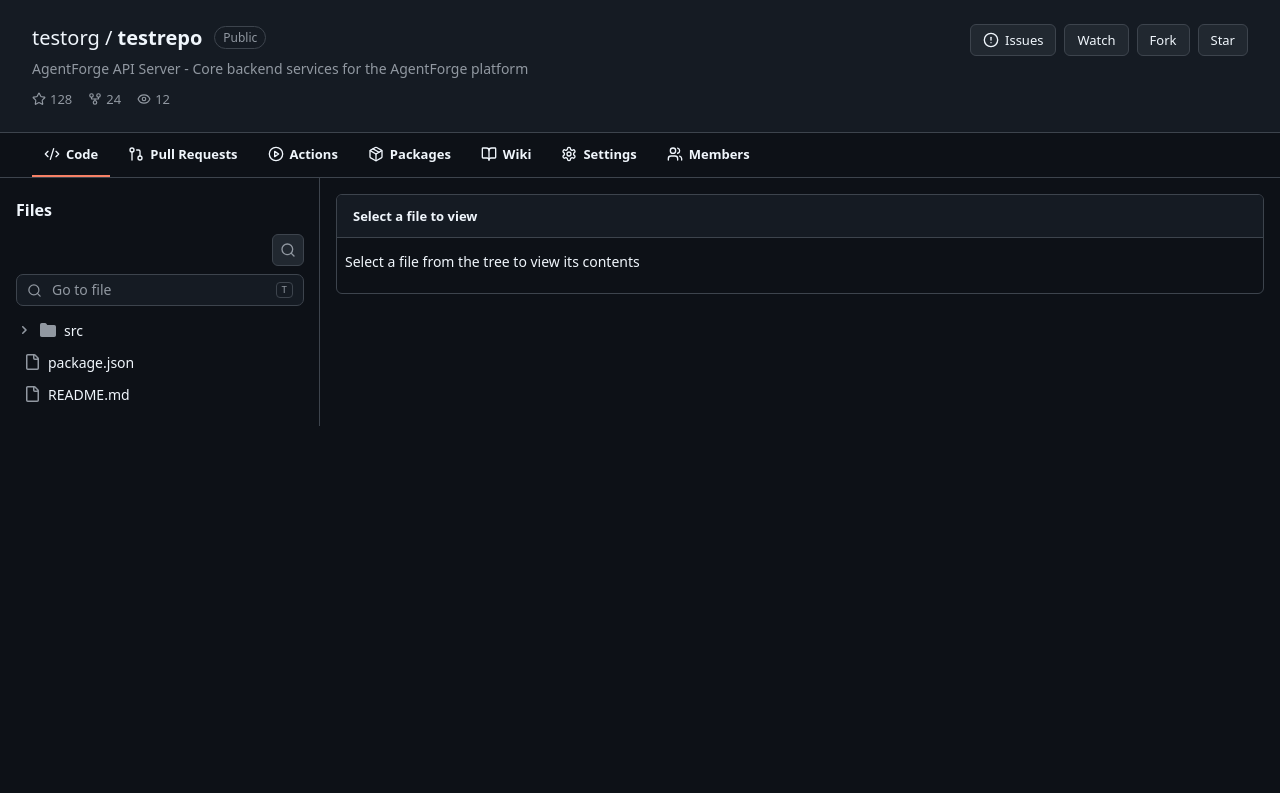
Test case: RepositoryDetailPage - Pull Requests Tab › filters PRs by merged status
The width and height of the screenshot is (1280, 793).
Click the tab "Pull Requests".
click(183, 155)  # box [116,133,250,177]
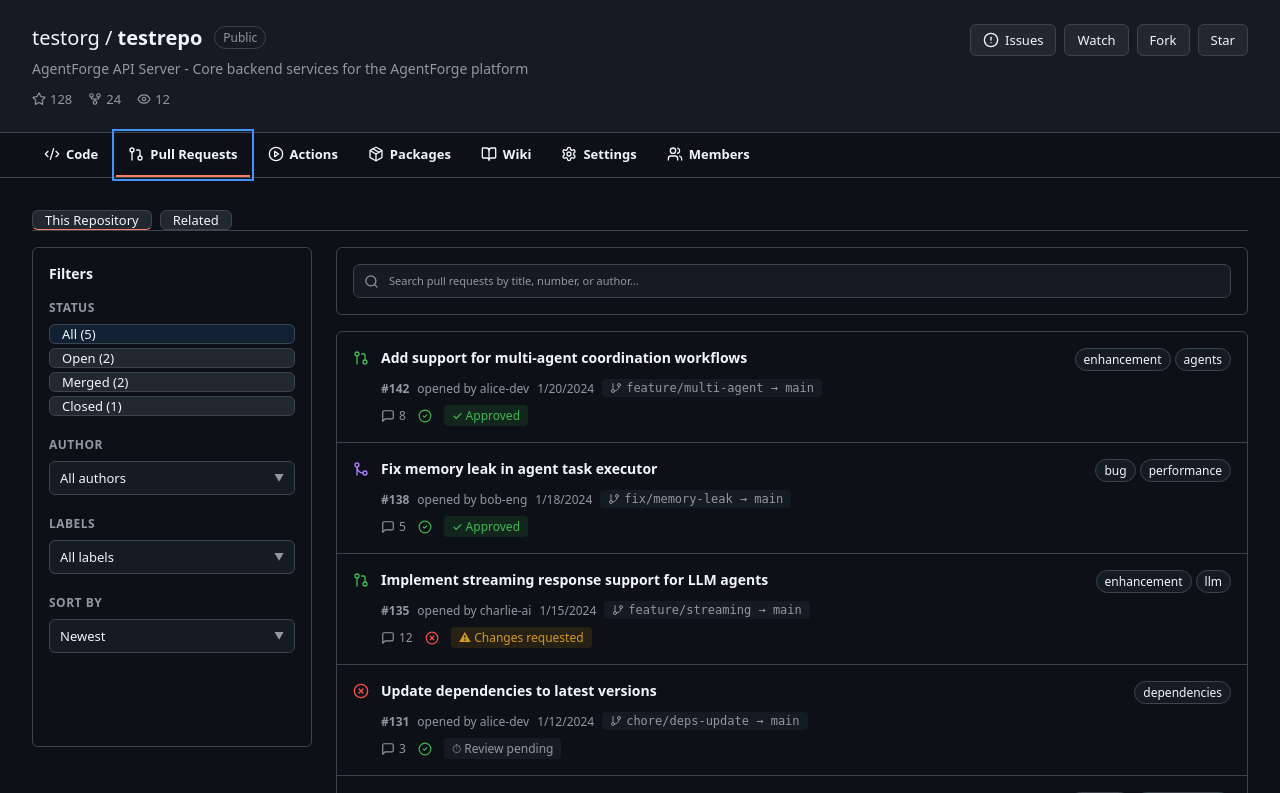
Check: the button "Merged (2)" is shown
Click the button "Merged (2)".
click(172, 382)  # box [49,372,295,392]
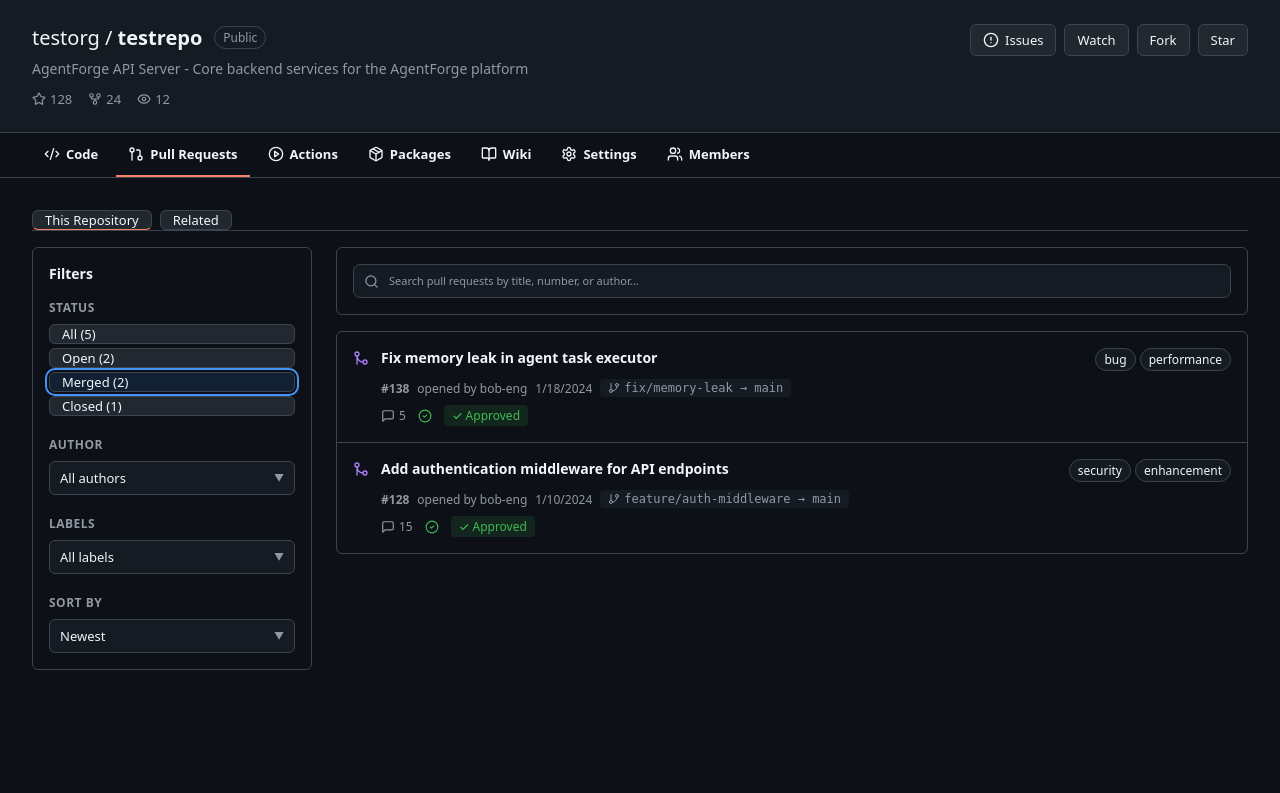
Check: the heading "Fix memory leak in agent task executor" is shown, box [381,348,657,367]
Check: the heading "Add authentication middleware for API endpoints" is shown, box [381,459,729,478]
Check: the heading "Add support for multi-agent coordination workflows" is gone
